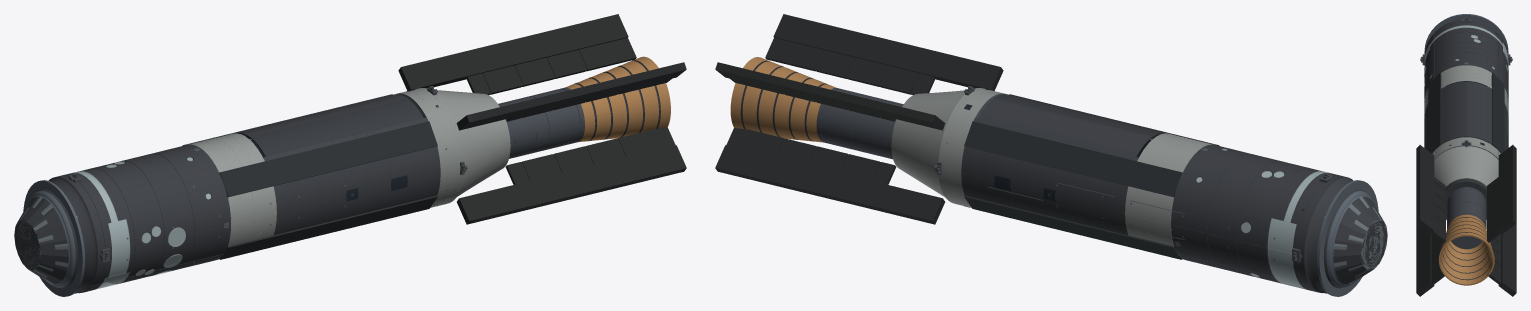
Rendered from wayfarer_exterior_B_medical_88ce19fc_stowed_closed.glb.
3 renders of one model, left to right at view 1: azimuth 30°, elevation 25°; view 2: azimuth 150°, elevation 25°; view 3: azimuth 270°, elevation 25°, orthographic. The views are drawn at different scales.
Visible parts, largest first — view 1: dry:armor, dry:skin_midship, dry:hotfin_220:folded_envelope, dry:hotfin_40:folded_envelope, dry:strake_140:stowed_stack, dry:nozzle, dry:skin_service, dry:door_port, dry:hotfin_root_40:root, dry:thrust_cone, dry:hotfin_root_220:root, dry:hotfin_140:folded_envelope (+12 smaller); view 2: dry:armor, dry:skin_midship, dry:hotfin_320:folded_envelope, dry:hotfin_140:folded_envelope, dry:strake_40:stowed_stack, dry:nozzle, dry:skin_service, dry:hotfin_root_140:root, dry:door_starboard, dry:thrust_cone, dry:hotfin_root_320:root, dry:reactor (+14 smaller); view 3: dry:armor, dry:nozzle, dry:thrust_cone, dry:hotfin_40:folded_envelope, dry:hotfin_140:folded_envelope, dry:reactor, dry:door_port, dry:door_starboard, dry:hotfin_220:folded_envelope, dry:hotfin_320:folded_envelope, dry:skin_service, dry:strake_40:stowed_stack (+12 smaller).
Part boxes in pixels (x1,y1,x2,y2): dry:armor: (28, 144, 230, 293); dry:skin_midship: (263, 117, 440, 235); dry:hotfin_220:folded_envelope: (457, 145, 686, 224); dry:hotfin_40:folded_envelope: (398, 14, 628, 90); dry:strake_140:stowed_stack: (219, 121, 437, 197); dry:nozzle: (565, 56, 670, 142); dry:skin_service: (187, 133, 276, 259); dry:door_port: (250, 98, 423, 156); dry:hotfin_root_40:root: (466, 38, 636, 94); dry:thrust_cone: (437, 90, 510, 196); dry:hotfin_root_220:root: (505, 127, 675, 184); dry:hotfin_140:folded_envelope: (456, 62, 686, 130); dry:armor: (1171, 144, 1373, 293); dry:skin_midship: (961, 117, 1138, 235); dry:hotfin_320:folded_envelope: (715, 145, 944, 224); dry:hotfin_140:folded_envelope: (773, 14, 1003, 90); dry:strake_40:stowed_stack: (964, 121, 1182, 197); dry:nozzle: (730, 57, 836, 142); dry:skin_service: (1125, 133, 1214, 259); dry:hotfin_root_140:root: (765, 38, 935, 94); dry:door_starboard: (978, 98, 1151, 156); dry:thrust_cone: (891, 90, 964, 197); dry:hotfin_root_320:root: (726, 128, 896, 184); dry:reactor: (816, 88, 903, 159); dry:armor: (1424, 19, 1508, 102); dry:nozzle: (1438, 214, 1494, 285); dry:thrust_cone: (1434, 146, 1498, 220); dry:hotfin_40:folded_envelope: (1498, 145, 1516, 234); dry:hotfin_140:folded_envelope: (1416, 145, 1434, 234); dry:reactor: (1447, 187, 1486, 249); dry:door_port: (1444, 82, 1466, 142); dry:door_starboard: (1466, 82, 1488, 142); dry:hotfin_220:folded_envelope: (1416, 224, 1434, 296); dry:hotfin_320:folded_envelope: (1498, 224, 1516, 296); dry:skin_service: (1424, 65, 1508, 118); dry:strake_40:stowed_stack: (1491, 72, 1504, 153).
Bounding box in the file's own units: 54.5 × 9.92 × 10.73.
